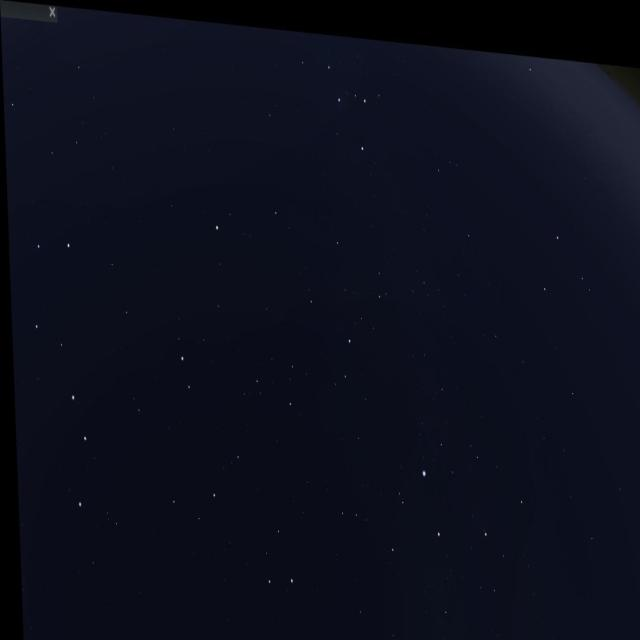cassiopeia: (282, 48, 387, 187)
cygnus: (378, 450, 496, 640)
ursa_major: (6, 216, 100, 524)
